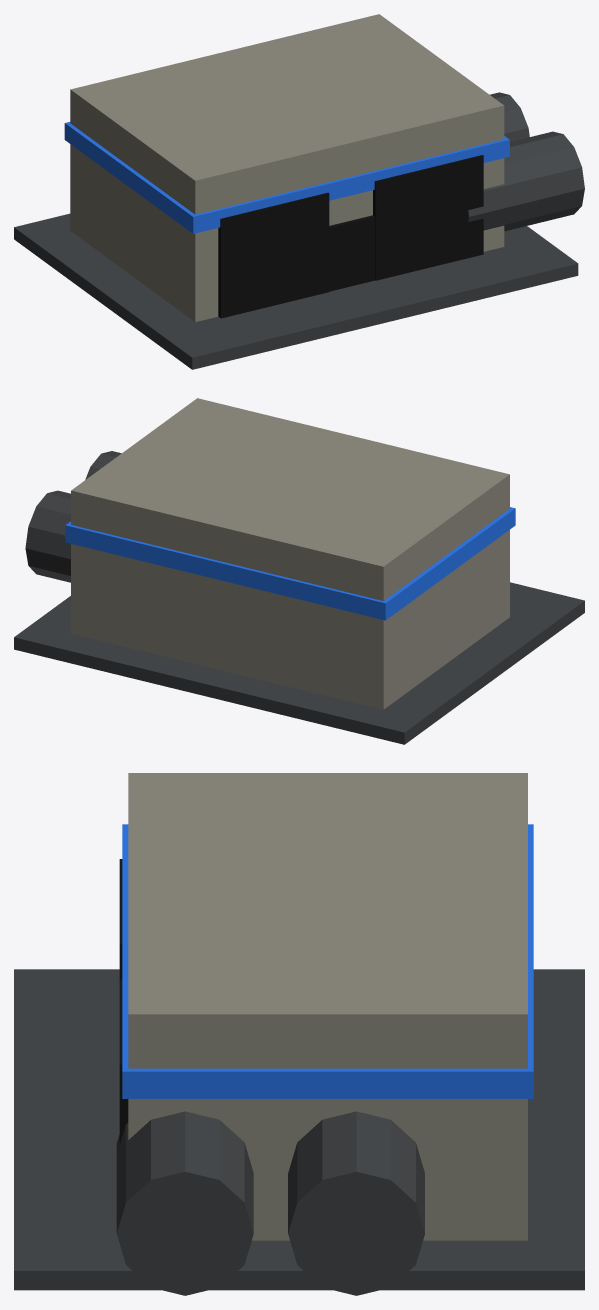
File: rail_depot.glb
3 renders of one model, top to bottom at view 1: azimuth 30°, elevation 25°; view 2: azimuth 150°, elevation 25°; view 3: azimuth 270°, elevation 25°, orthographic. The views are drawn at different scales.
Visible parts, largest first — view 1: main, base, garage_0, garage_1, fuel_tank_0, team_band, door, fuel_tank_1; view 2: main, base, team_band, fuel_tank_1; view 3: main, base, fuel_tank_0, fuel_tank_1, team_band, garage_1.
Part boxes in pixels (<box>): main: <box>70,14,504,322</box>; base: <box>14,213,578,369</box>; garage_0: <box>218,192,329,318</box>; garage_1: <box>373,155,483,280</box>; fuel_tank_0: <box>468,131,584,231</box>; team_band: <box>64,122,509,233</box>; door: <box>329,215,374,291</box>; fuel_tank_1: <box>490,92,529,141</box>; main: <box>71,398,509,709</box>; base: <box>14,582,584,744</box>; team_band: <box>65,507,515,620</box>; fuel_tank_1: <box>25,490,70,582</box>; main: <box>128,773,527,1240</box>; base: <box>14,969,584,1290</box>; fuel_tank_0: <box>116,1111,253,1295</box>; fuel_tank_1: <box>288,1111,424,1295</box>; team_band: <box>122,824,533,1098</box>; garage_1: <box>119,979,128,1144</box>.
Size of the model in its own units: 11 by 3.8 by 8.
